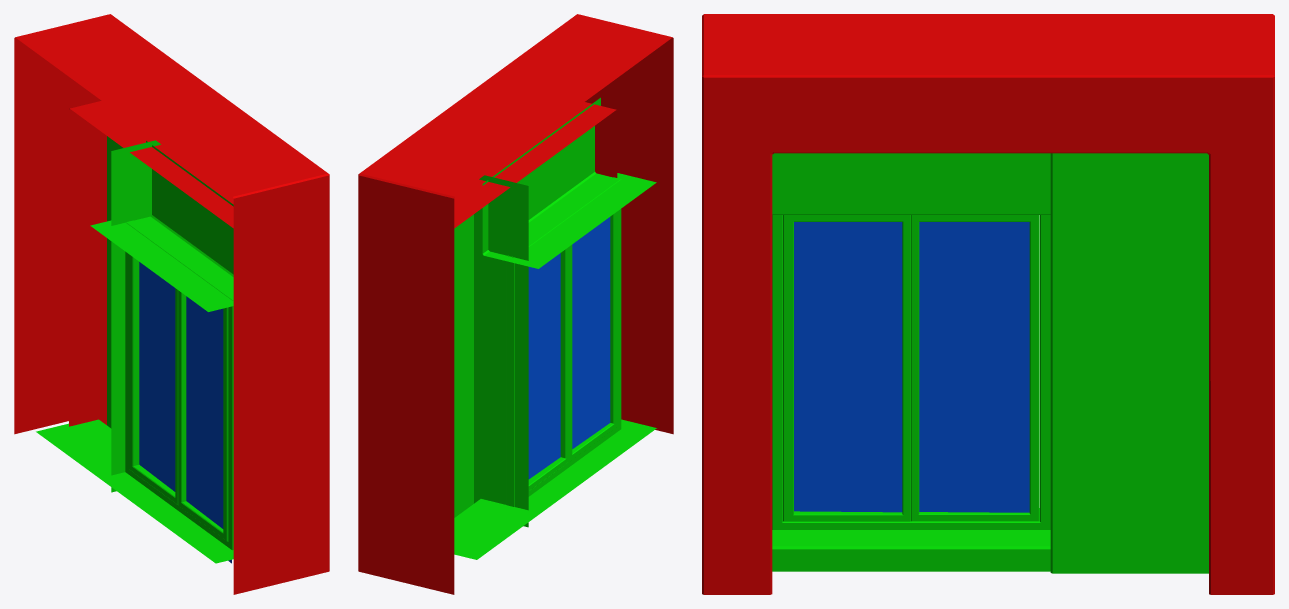
The model's file is shop_C.fbx.
3 renders of one model, left to right at view 1: azimuth 30°, elevation 25°; view 2: azimuth 150°, elevation 25°; view 3: azimuth 270°, elevation 25°, orthographic. The views are drawn at different scales.
Parts seen in each view (by area): view 1: polySurface202; view 2: polySurface202; view 3: polySurface202.
Part boxes in pixels (<box>): polySurface202: <box>14,14,329,594</box>; polySurface202: <box>358,14,673,594</box>; polySurface202: <box>702,14,1274,594</box>.
Bounding box in the file's own units: 79.84 × 300 × 300.
